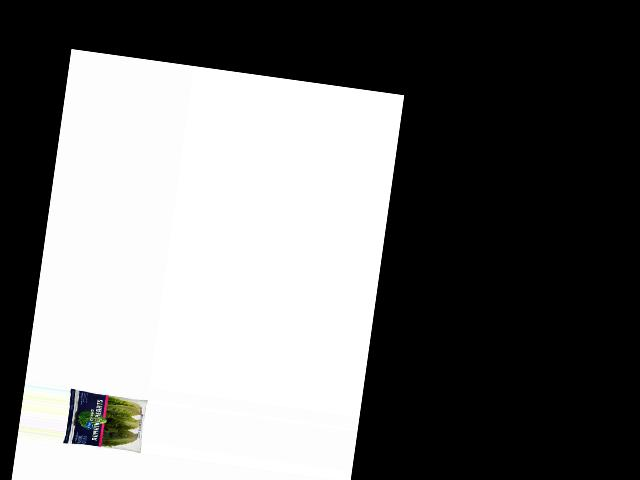lettuce: (64, 386, 145, 455)
